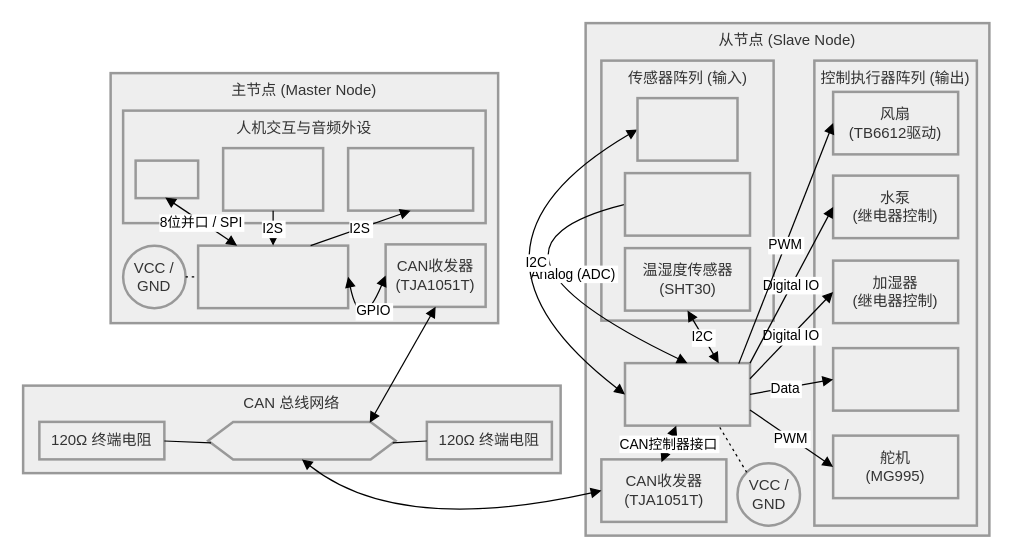
This 1011x558 diagram has some shape labels left out. The shapes that lost their labels are listed below. From the top down, each one's centre as x and y in pixels, then its label:
At (687,128): "光照传感器 (BH1750)".
At (166,179): "触摸屏".
At (272,178): "麦克风 (INMP441)".
At (410,178): "功放与扬声器 (MAX98357A)".
At (687,203): "土壤湿度传感器 (模拟型)".
At (272,276): "ESP32-S3 微控制器 (内嵌 WiFi 模块)".
At (687,393): "STM32F407VET6 微控制器".
At (895,378): "补光灯 (WS2812B)".
At (301,440): "CANH / CANL 双绞线".
